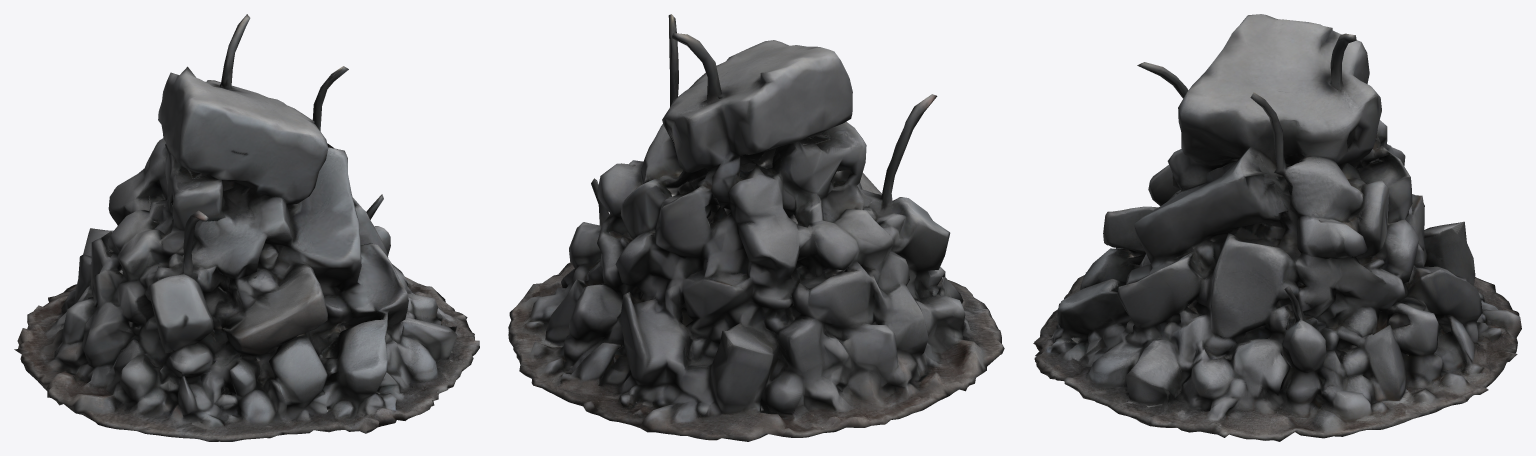
Rendered from rubble_pile.glb.
3 renders of one model, left to right at view 1: azimuth 30°, elevation 25°; view 2: azimuth 150°, elevation 25°; view 3: azimuth 270°, elevation 25°, orthographic. The views are drawn at different scales.
Bounding box in the file's own units: 2 × 1.46 × 1.98.
Materials: 1 (1 with a texture image).
